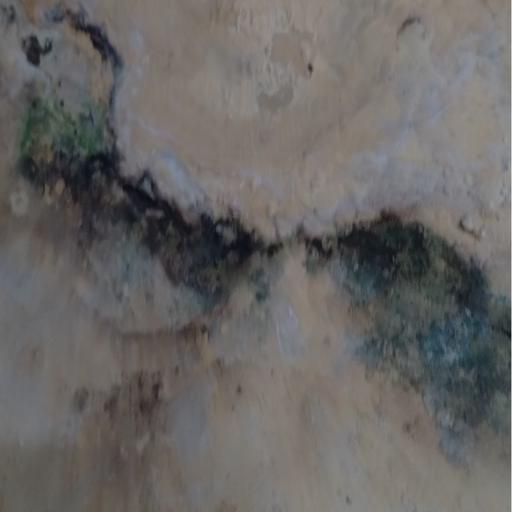algae: (27, 59, 512, 423)
